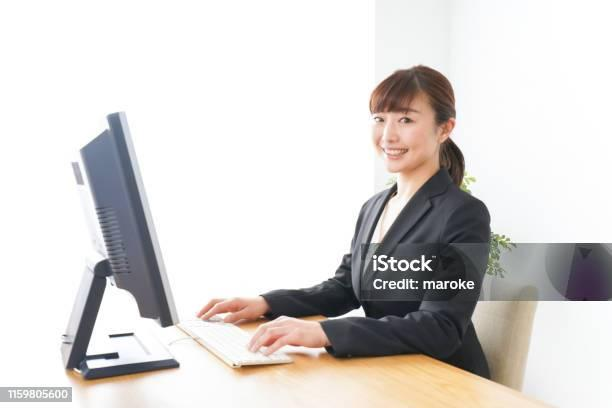Good Sitting Posture: (194, 63, 494, 380)
